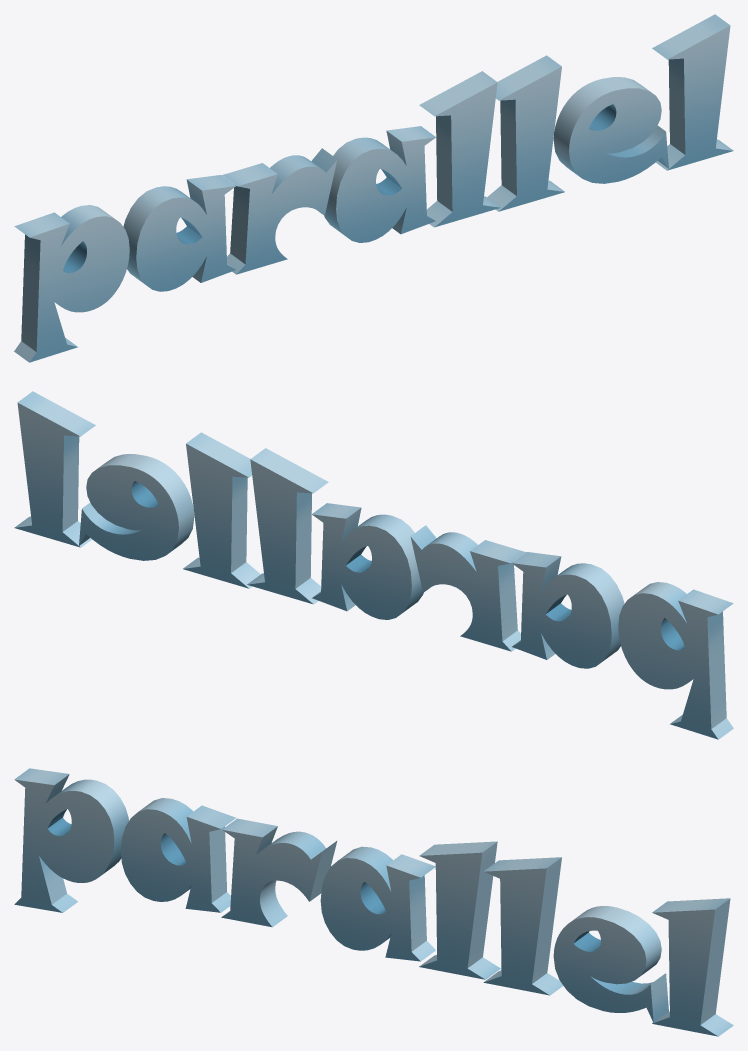
Rendered from parallel.fbx.
3 renders of one model, top to bottom at view 1: azimuth 30°, elevation 25°; view 2: azimuth 150°, elevation 25°; view 3: azimuth 330°, elevation 25°, orthographic.
Visible parts, largest first — view 1: typeMesh1; view 2: typeMesh1; view 3: typeMesh1.
Part boxes in pixels (x1=…): typeMesh1: x1=14, y1=14, x2=733, y2=362; typeMesh1: x1=14, y1=391, x2=733, y2=739; typeMesh1: x1=14, y1=768, x2=733, y2=1036.
Size of the model in its own units: 66.16 by 14.91 by 2.5.
Materials: 1 (1 with a texture image).
